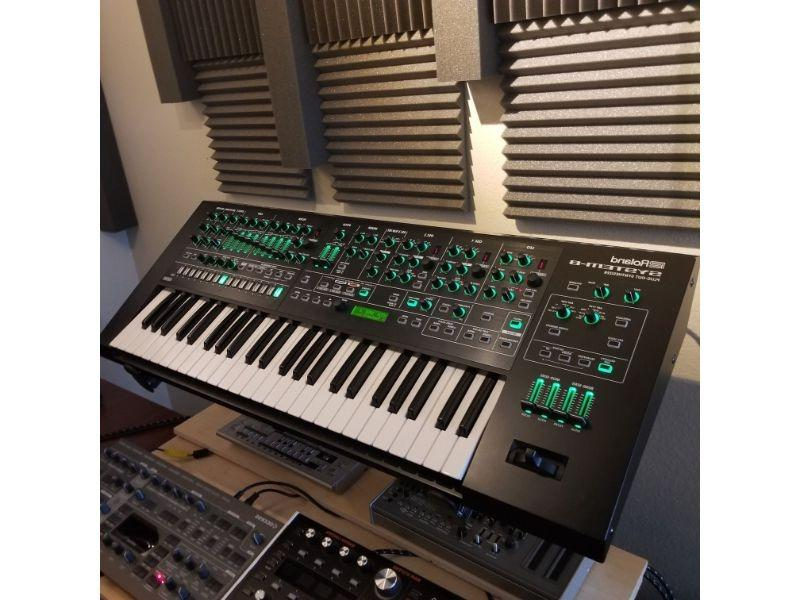synthesizer: (115, 182, 690, 567)
